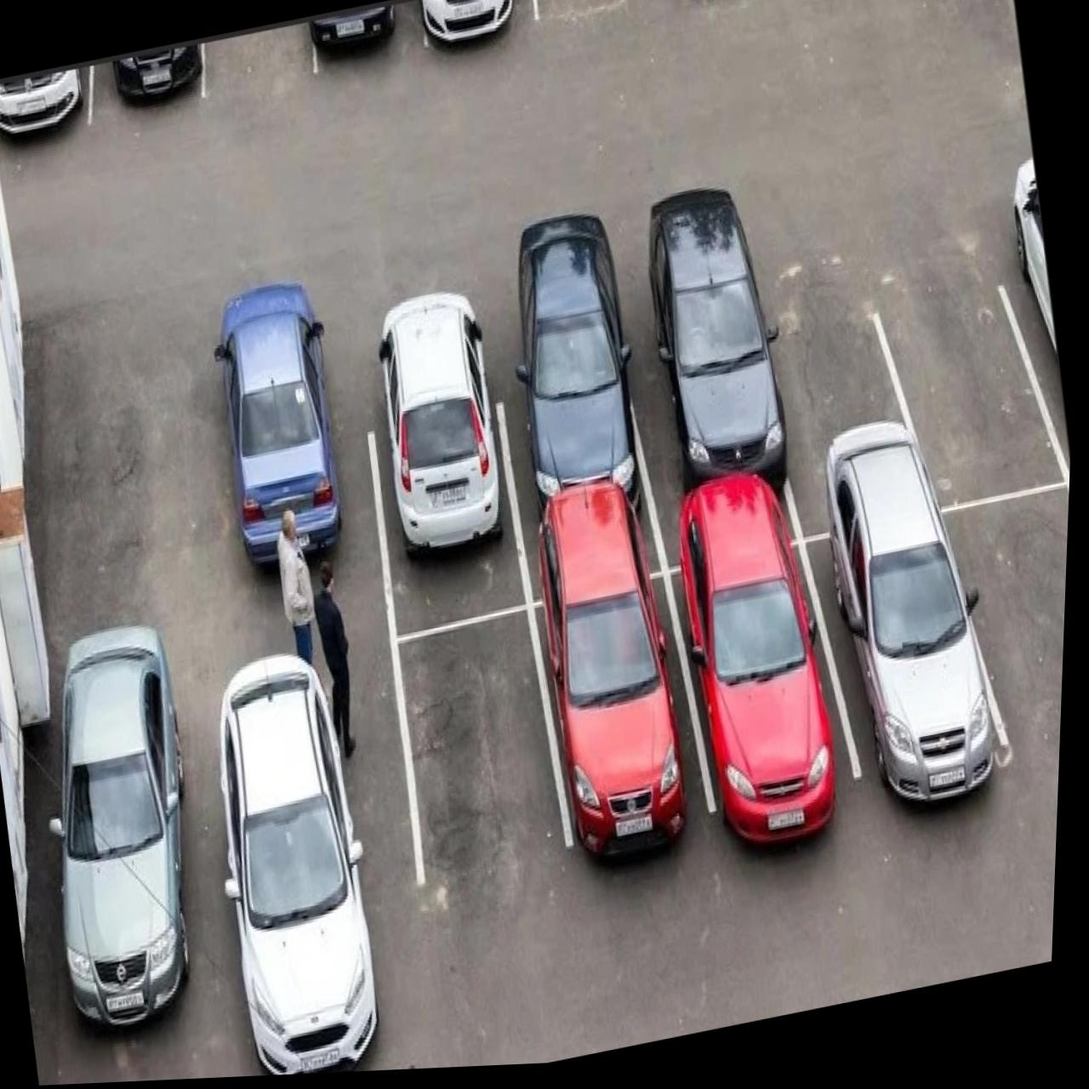cars: (800, 501, 1015, 819), (676, 530, 849, 863), (528, 570, 709, 882), (490, 299, 663, 601), (625, 281, 801, 552), (358, 371, 529, 618)
empty: (380, 614, 576, 930), (877, 245, 1076, 508), (750, 268, 926, 526), (944, 482, 1069, 767)
